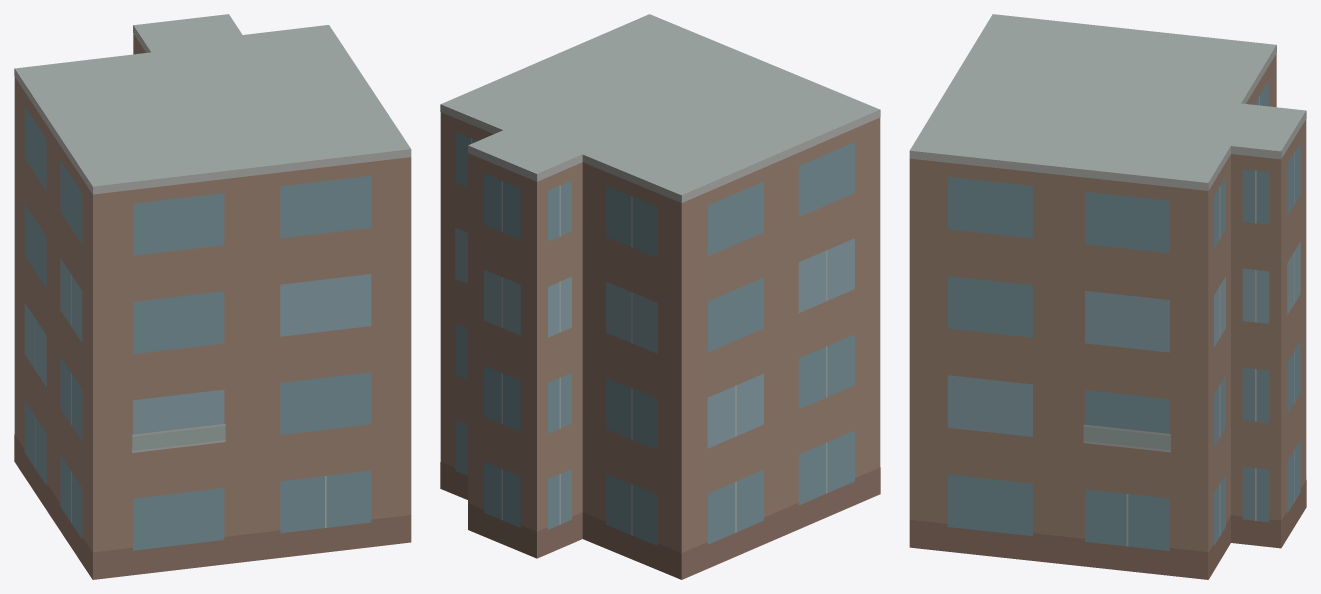
Rendered from residential-259b4aa1-8c94-4a46-8c92-c1b55b398ac3.glb.
3 renders of one model, left to right at view 1: azimuth 30°, elevation 25°; view 2: azimuth 150°, elevation 25°; view 3: azimuth 270°, elevation 25°, orthographic. The views are drawn at different scales.
Visible parts, largest first — view 1: residential-259b4aa1-8c94-4a46-8c92-c1b55b398ac3.tmp; view 2: residential-259b4aa1-8c94-4a46-8c92-c1b55b398ac3.tmp; view 3: residential-259b4aa1-8c94-4a46-8c92-c1b55b398ac3.tmp.
Boxes of the visible parts, box(x1,y1,x2,y2) form: residential-259b4aa1-8c94-4a46-8c92-c1b55b398ac3.tmp: box(14, 14, 411, 579); residential-259b4aa1-8c94-4a46-8c92-c1b55b398ac3.tmp: box(440, 14, 880, 579); residential-259b4aa1-8c94-4a46-8c92-c1b55b398ac3.tmp: box(909, 14, 1306, 579).
Bounding box in the file's own units: 11.15 × 12.2 × 11.07.
